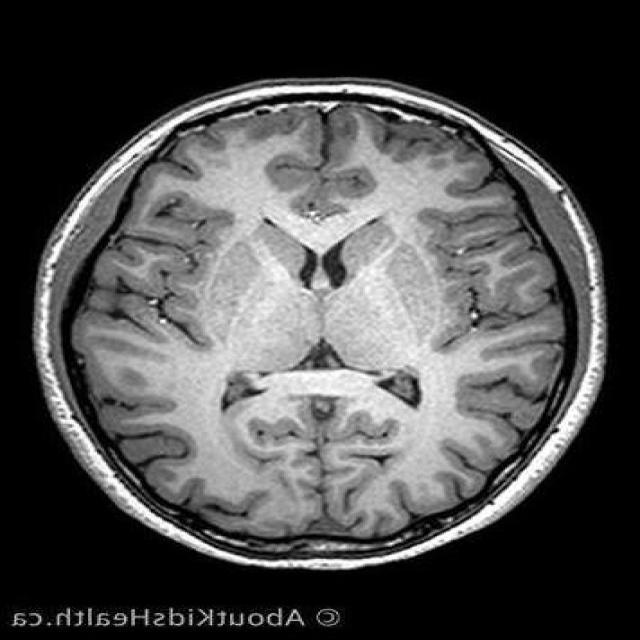notumor: (34, 81, 606, 568)
